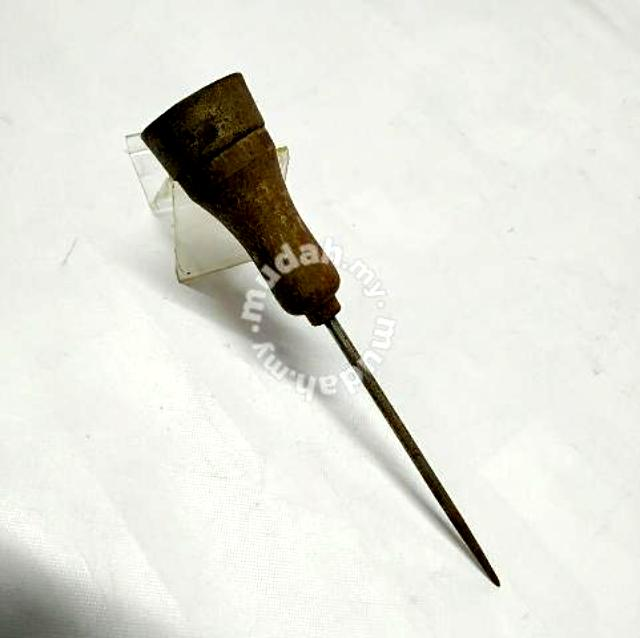ice pick: (139, 71, 501, 591)
